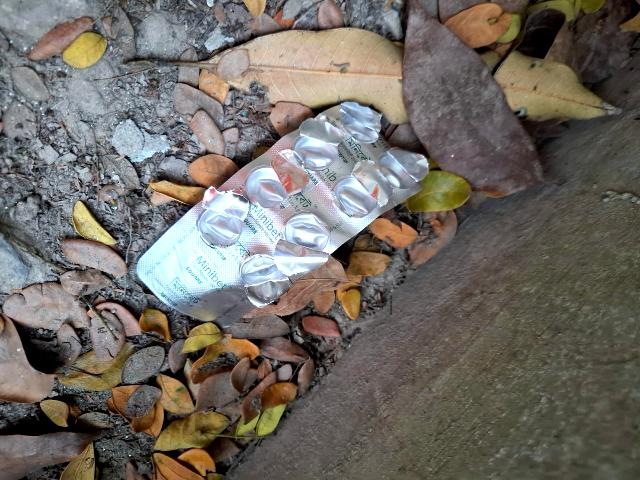medicine: (119, 68, 444, 364)
